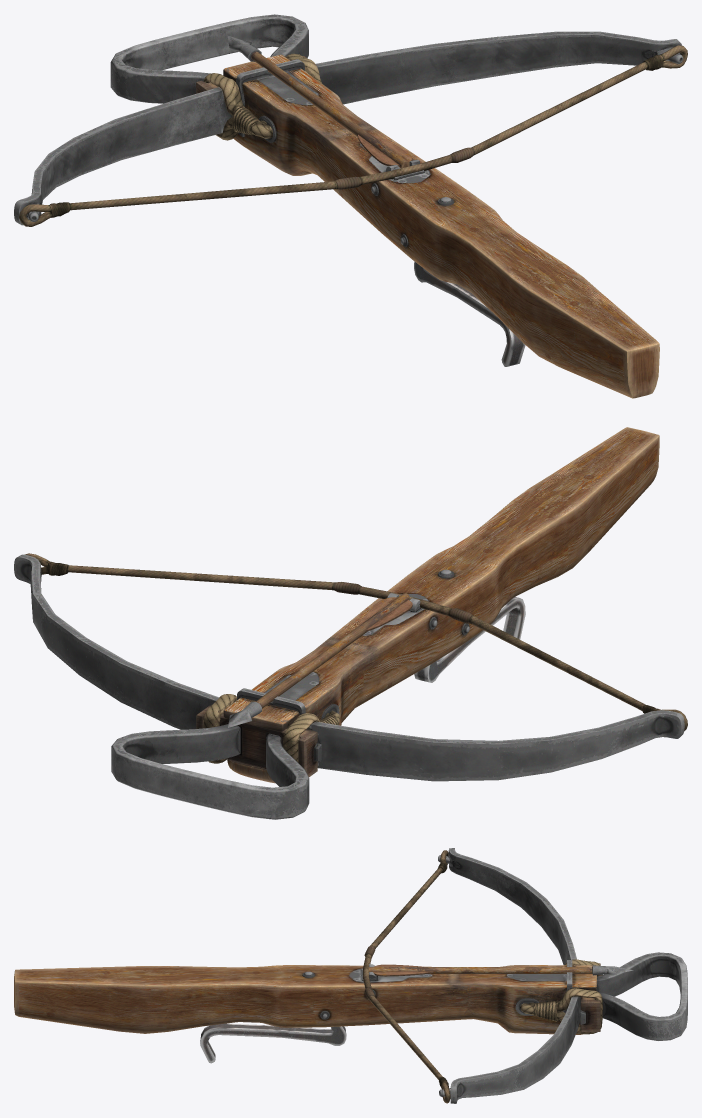
File: Crossbow_02.fbx
3 views of the same model, one above another, from view 1: azimuth 30°, elevation 25°; view 2: azimuth 150°, elevation 25°; view 3: azimuth 270°, elevation 25° (orthographic). The views are drawn at different scales.
Visible parts, largest first — view 1: Crossbow_02_LOD0; view 2: Crossbow_02_LOD0; view 3: Crossbow_02_LOD0.
Part boxes in pixels (bbox=[...]): Crossbow_02_LOD0: bbox=[14, 14, 687, 398]; Crossbow_02_LOD0: bbox=[14, 427, 687, 819]; Crossbow_02_LOD0: bbox=[14, 848, 687, 1103].
Size of what is drawn, in the model's own units: 62.06 by 11.33 by 72.78.
